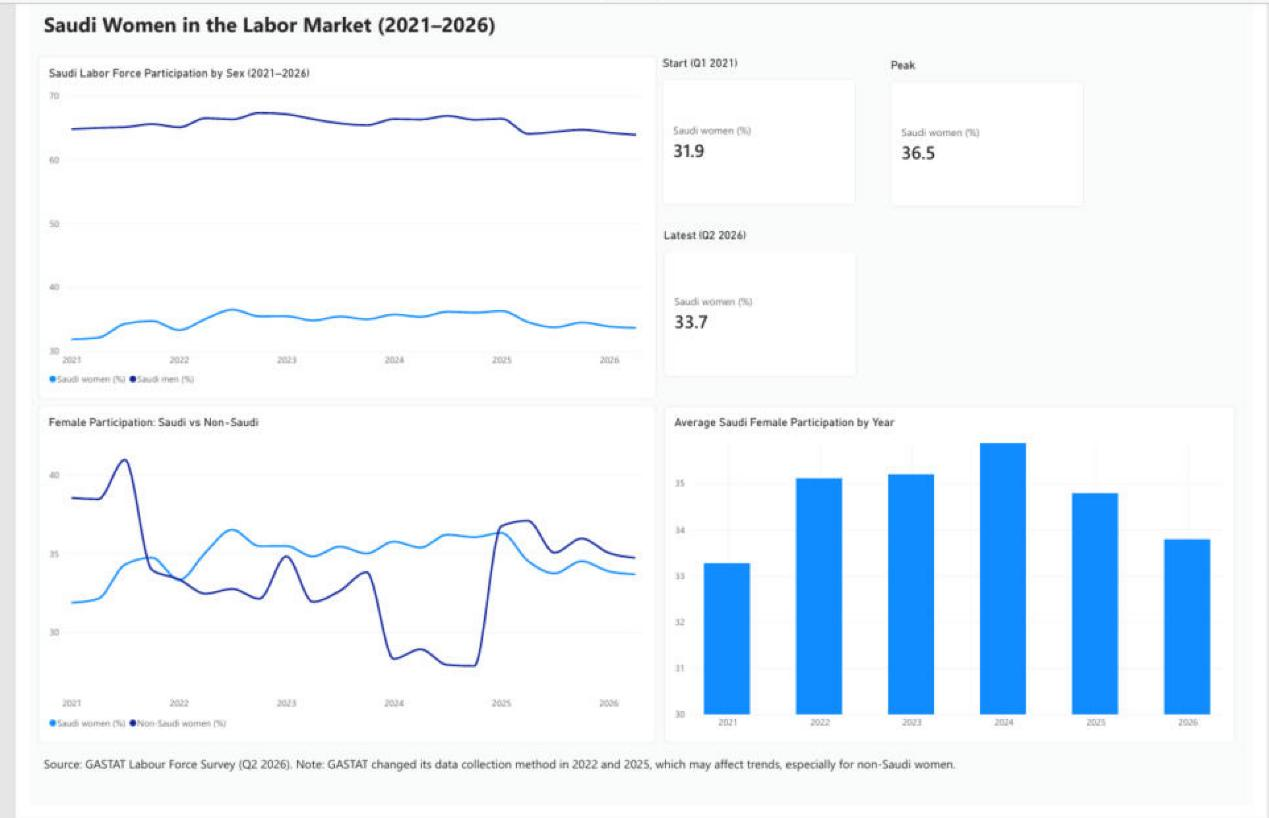

Layout of this report page (visuals, bound fields, positions):
{"tool":"powerbi","page":{"name":"Dashboard","canvas":[1920,1260],"ordinal":0},"visuals":[{"type":"lineChart","title":"Saudi Labor Force Participation by Sex (2021–2026)","fields":{"Category":["Participation.Date"],"Y":["Sum(Participation.Saudi_Female)","Sum(Participation.Saudi_Male)"]},"box":[11.3,82.2,972.3,538.6],"z":0},{"type":"lineChart","title":"Female Participation: Saudi vs Non-Saudi","fields":{"Category":["Participation.Date"],"Y":["Sum(Participation.Saudi_Female)","Sum(Participation.NonSaudi_Female)"]},"box":[11,631.2,972,531],"z":1000},{"type":"cardVisual","title":"Start (Q1 2021)","fields":{"Data":["Sum(Participation.Saudi_Female)"]},"box":[993,82.2,305,234.2],"z":2000},{"type":"cardVisual","title":"Peak","fields":{"Data":["Max(Participation.Saudi_Female)"]},"box":[1352.1,85.1,305,234.2],"z":3000},{"type":"cardVisual","title":"Latest (Q2 2026)","fields":{"Data":["Sum(Participation.Saudi_Female)"]},"box":[995,351.5,305,234.2],"z":4000},{"type":"clusteredColumnChart","title":"Average Saudi Female Participation by Year","fields":{"Category":["Participation.Date.Variation.Date Hierarchy.Year"],"Y":["Avg(Participation.Saudi_Female)"]},"box":[995,632.1,898.6,530.1],"z":5000},{"type":"textbox","box":[20,8,1880,70],"z":5001},{"type":"textbox","box":[20,1182,1880,70],"z":5002}]}

Visuals, with their boxes in screenshot pixels (x1, y1, x2, y2), scaled from the page's 1920x1260 canvas onto the 1269x818 screenshot:
"Saudi Labor Force Participation by Sex (2021–2026)" lineChart: pyautogui.locateOnScreen(7, 53, 650, 403)
"Female Participation: Saudi vs Non-Saudi" lineChart: pyautogui.locateOnScreen(7, 410, 650, 755)
"Start (Q1 2021)" cardVisual: pyautogui.locateOnScreen(656, 53, 858, 205)
"Peak" cardVisual: pyautogui.locateOnScreen(894, 55, 1095, 207)
"Latest (Q2 2026)" cardVisual: pyautogui.locateOnScreen(658, 228, 859, 380)
"Average Saudi Female Participation by Year" clusteredColumnChart: pyautogui.locateOnScreen(658, 410, 1252, 755)
textbox: pyautogui.locateOnScreen(13, 5, 1256, 51)
textbox: pyautogui.locateOnScreen(13, 767, 1256, 813)
